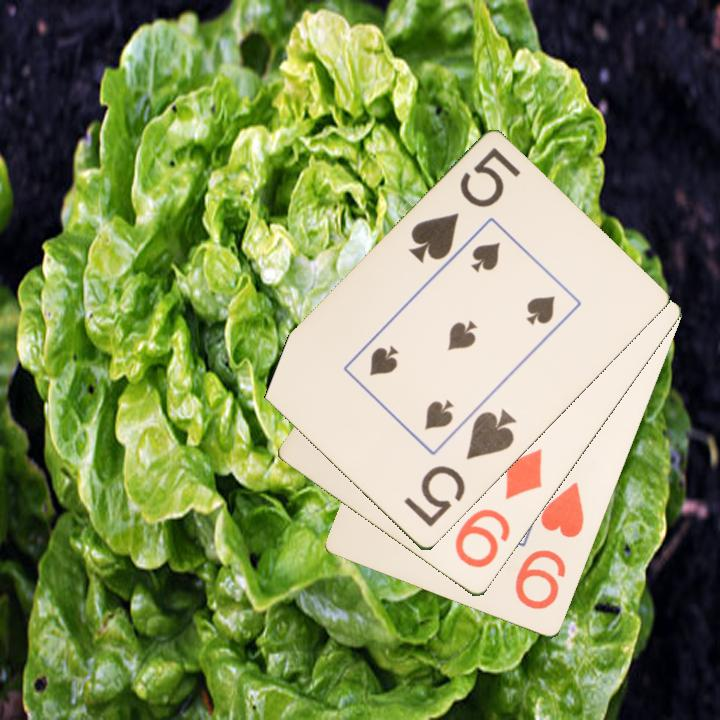5s: (400, 406, 520, 531), (405, 144, 524, 267)
9d: (451, 445, 546, 572)
9h: (511, 478, 588, 613)
